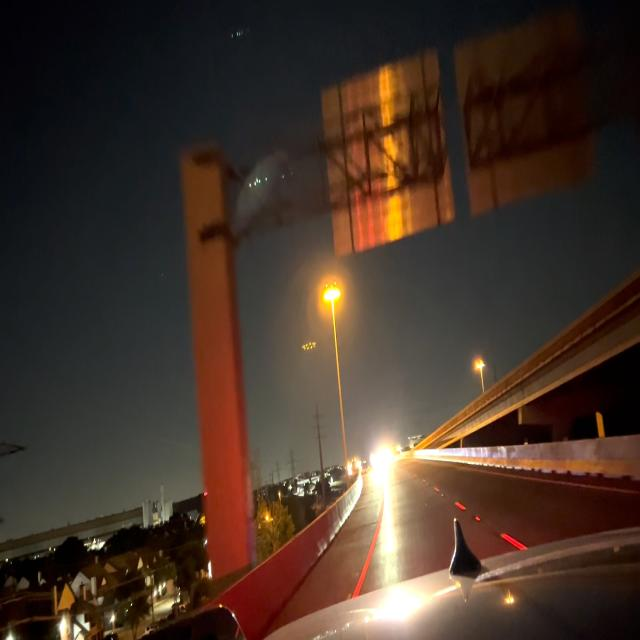back-of-sign: (454, 18, 599, 217), (324, 54, 455, 259)
